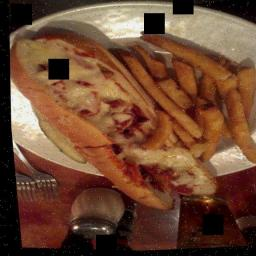hotdog: (2, 13, 226, 218), (103, 25, 256, 179)
